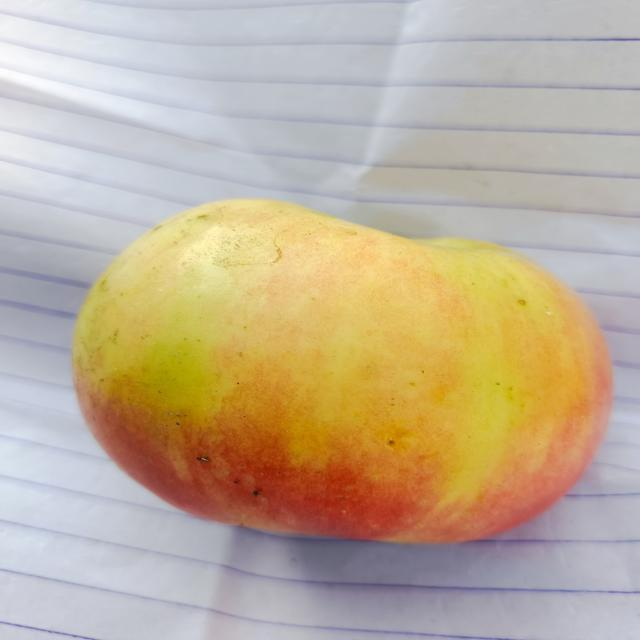Fresh Apple: (83, 205, 612, 552)
